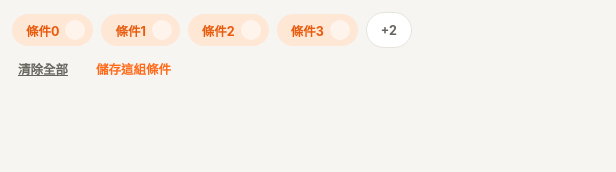
Test case: ActiveFiltersSummary › expands to show every chip and flips the toggle label to 收合, with aria-expanded reflecting state
Step 1. Click the button "+2" → (389, 30), box [366,12,412,48]
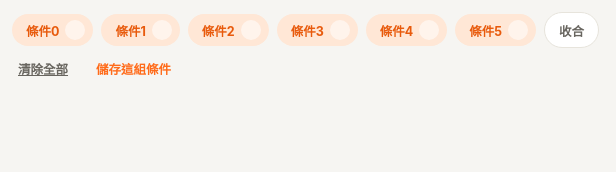
Now the text "條件4" is shown, box [380,20,413,40]
Now the text "條件5" is shown, box [469,20,502,40]
Now the button "收合" is expanded
Step 2. Click the button "收合" → (572, 30), box [544,12,599,48]
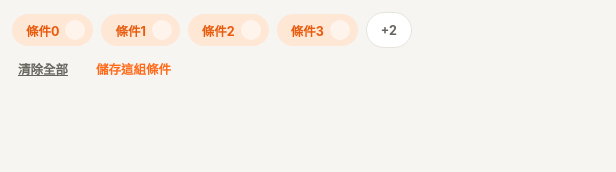
Now the button "條件4" is gone
